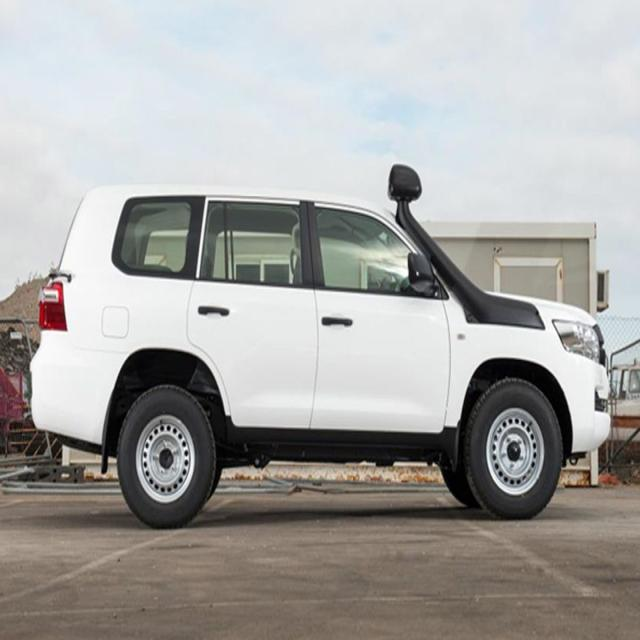light_vehicle: (28, 152, 629, 534)
